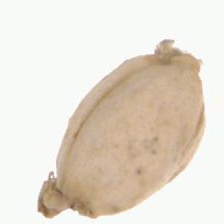L1: (39, 169, 93, 218), (143, 41, 202, 85)
L2: (37, 39, 204, 217)
